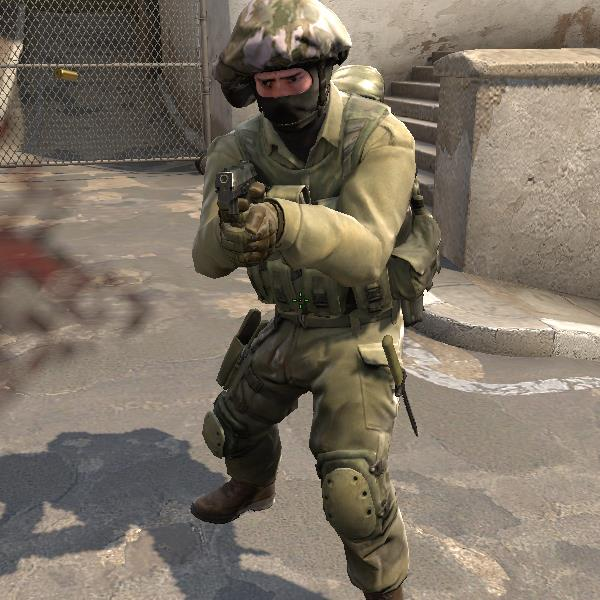ct_body: (142, 2, 475, 597)
ct_head: (233, 24, 352, 144)
